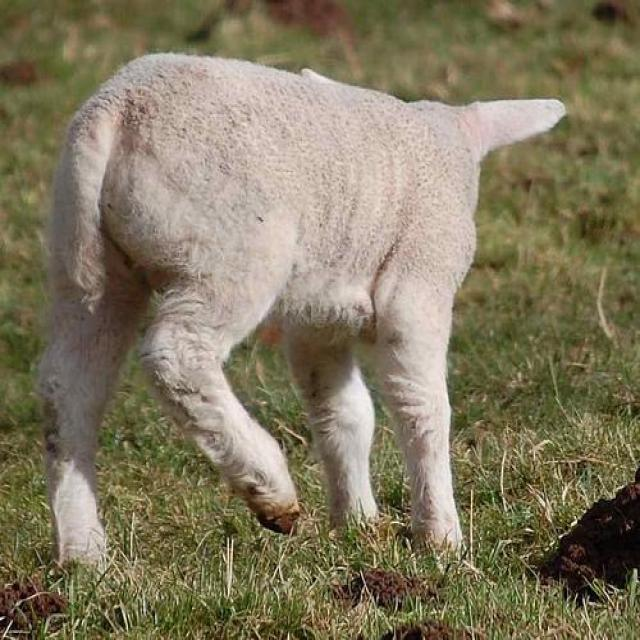Sheep: (38, 54, 566, 562)
